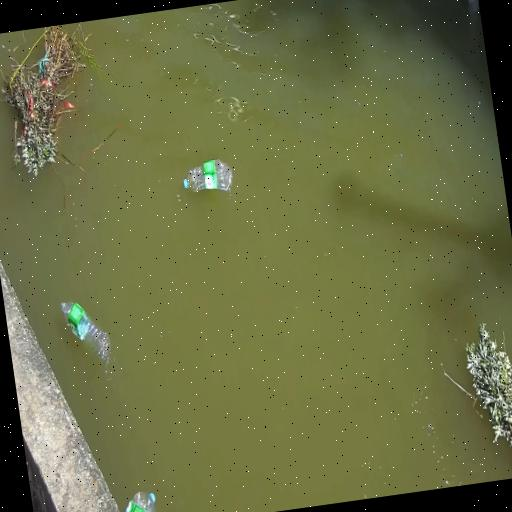plastic: (61, 303, 112, 363), (183, 159, 232, 191), (125, 492, 155, 511), (183, 179, 188, 189)
twig: (1, 25, 101, 175), (466, 323, 512, 447)
